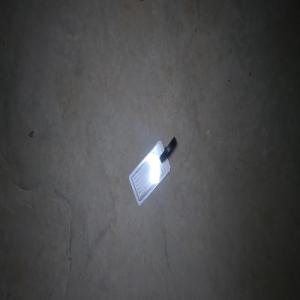LuggageTag: (127, 135, 177, 207)
